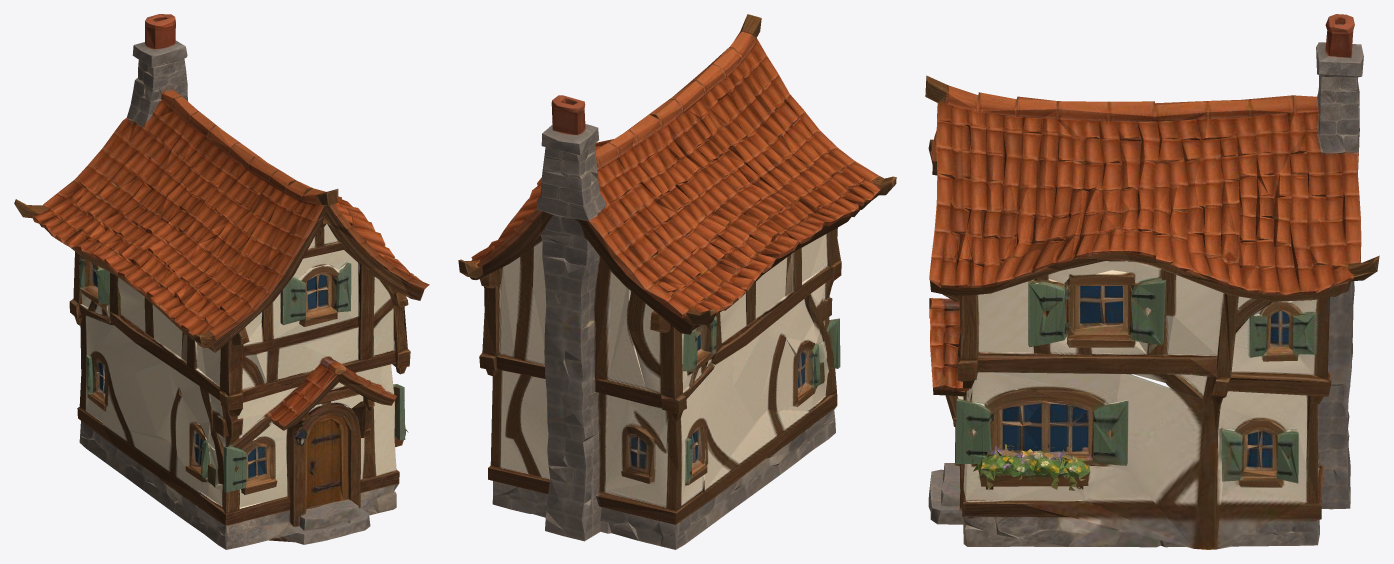
File: town-house-a-game.glb
The picture shows the model from 3 angles, left to right: view 1: azimuth 30°, elevation 25°; view 2: azimuth 150°, elevation 25°; view 3: azimuth 270°, elevation 25°; orthographic projection. The views are drawn at different scales.
Visible parts, largest first — view 1: output_unwrapped; view 2: output_unwrapped; view 3: output_unwrapped.
Boxes of the visible parts, x1=… form: output_unwrapped: x1=14, y1=14, x2=429, y2=549; output_unwrapped: x1=458, y1=14, x2=896, y2=549; output_unwrapped: x1=925, y1=14, x2=1379, y2=549.
Size of the model in its own units: 1.23 by 1.9 by 1.63.
Materials: 1 (1 with a texture image).
